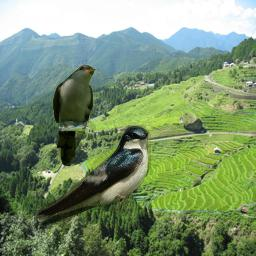Cuckoo: (52, 64, 96, 166)
Swallow: (34, 125, 151, 228)
